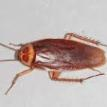cockroach: (14, 35, 107, 78)
